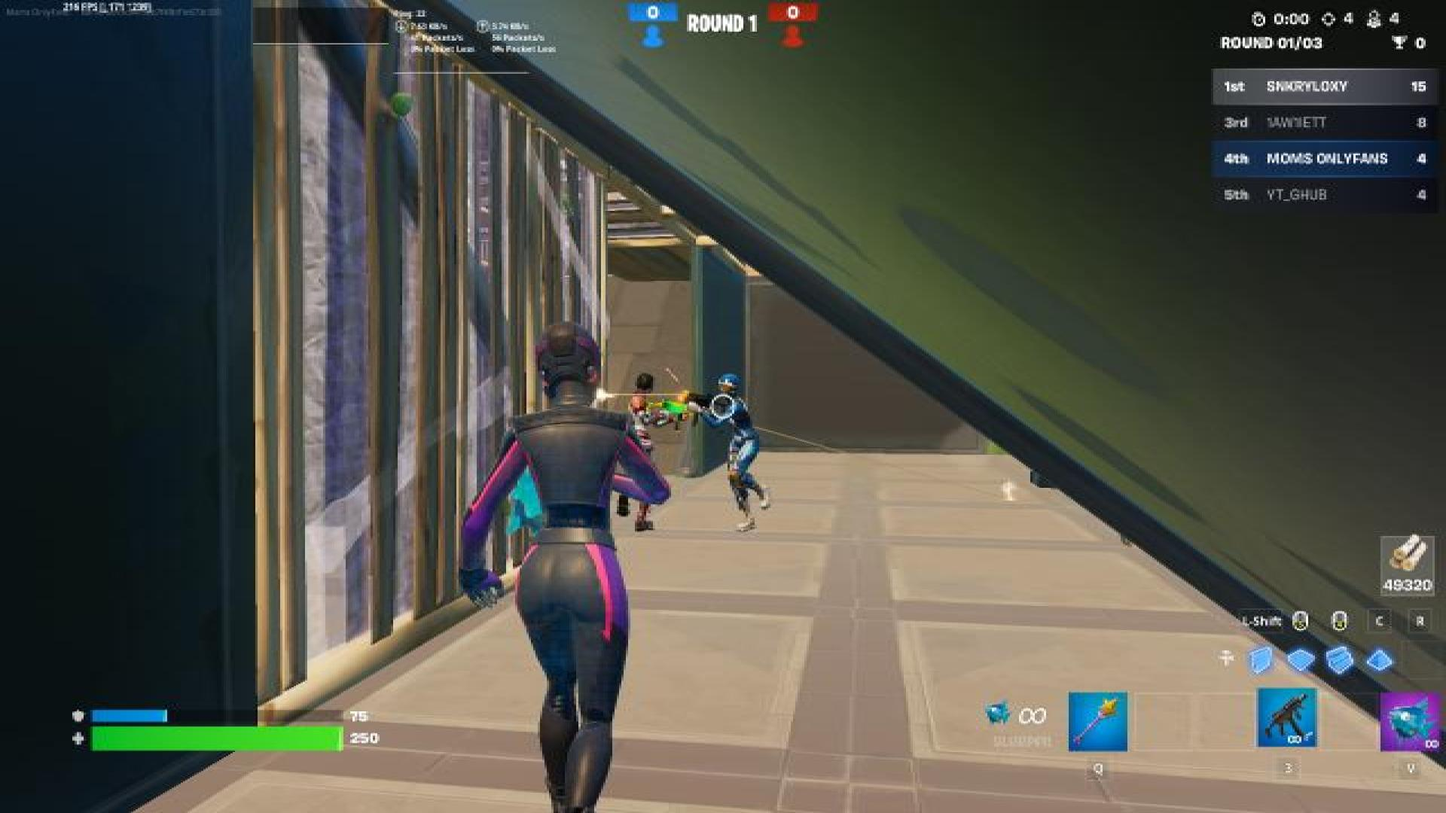player: (697, 372, 787, 541), (612, 364, 680, 544)
